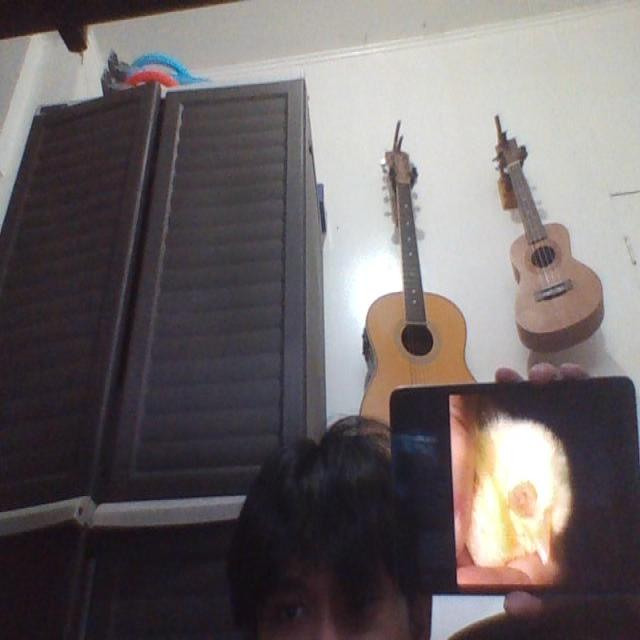Sick: (465, 417, 576, 578)
